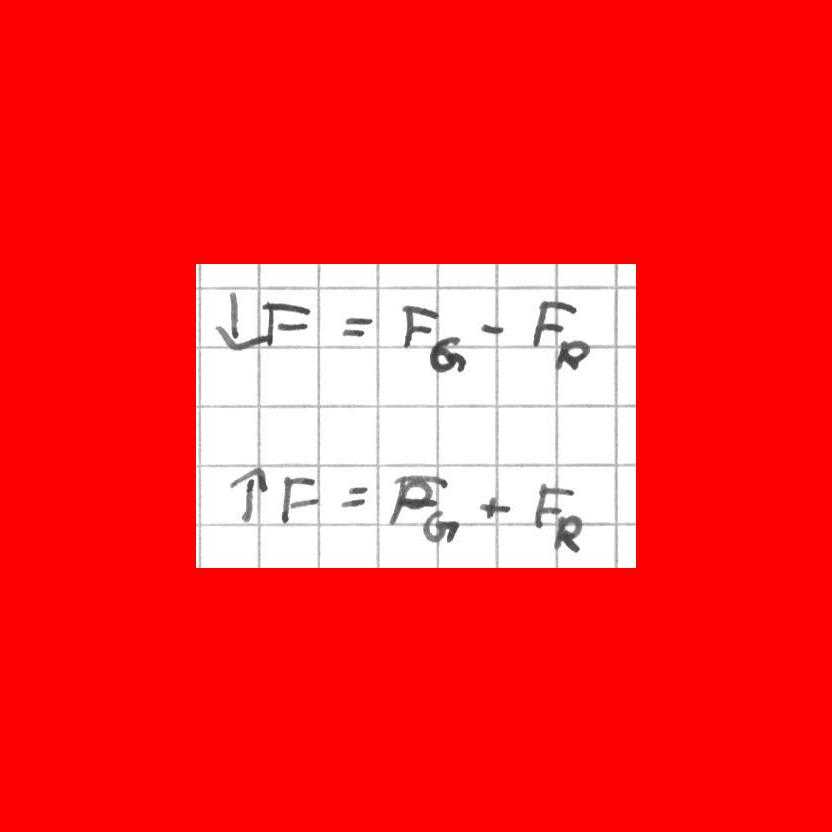Char: (215, 288, 266, 351), (229, 464, 269, 528), (529, 294, 575, 349), (387, 475, 433, 529), (530, 477, 574, 531), (277, 473, 319, 527), (263, 293, 309, 341), (398, 301, 438, 350), (426, 332, 467, 374), (419, 507, 459, 543), (550, 339, 590, 373), (554, 510, 584, 553), (340, 310, 374, 341), (478, 494, 509, 522), (339, 483, 369, 510), (478, 318, 505, 338)
